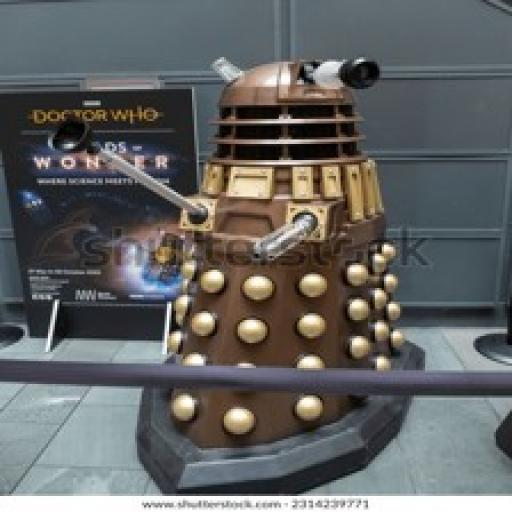dalek: (46, 57, 425, 487)
